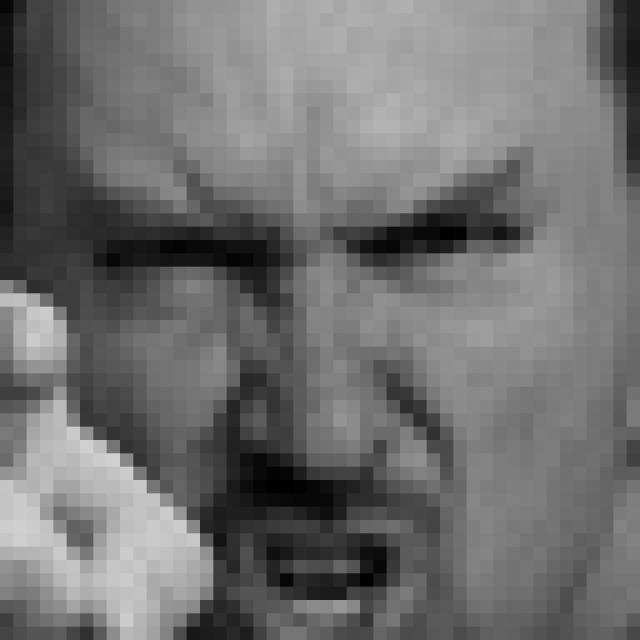angry: (89, 148, 538, 640)
